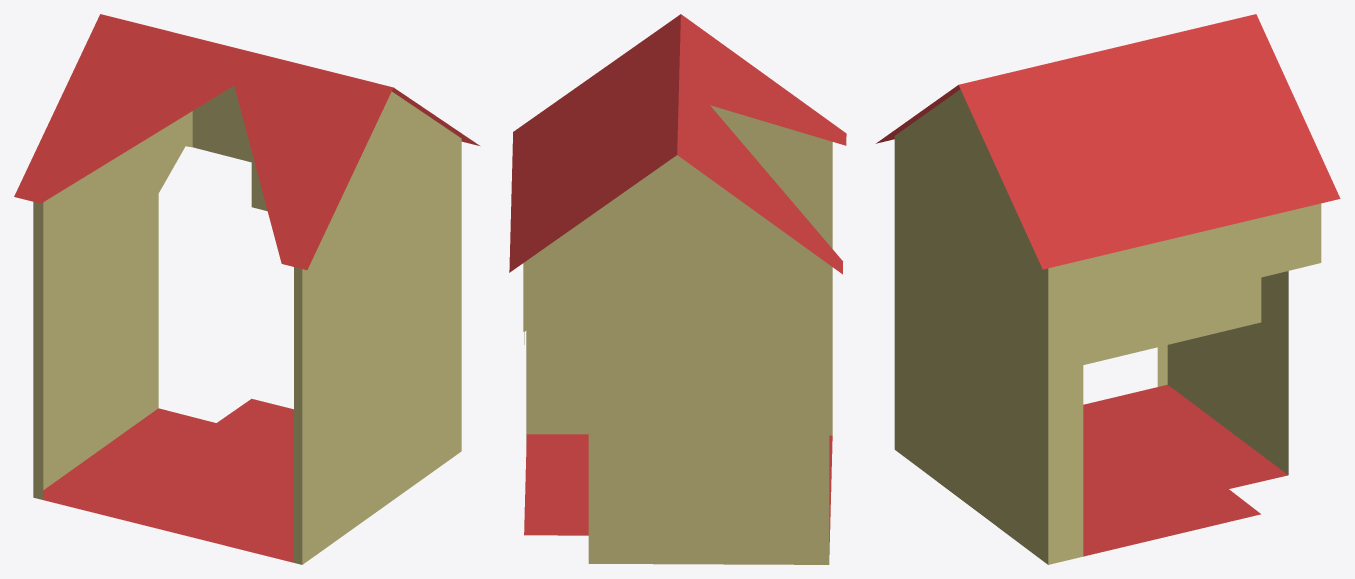
The picture shows the model from 3 angles, left to right: view 1: azimuth 30°, elevation 25°; view 2: azimuth 150°, elevation 25°; view 3: azimuth 270°, elevation 25°; orthographic projection. The views are drawn at different scales.
Size of the model in its own units: 16.49 by 16.49 by 16.63.
